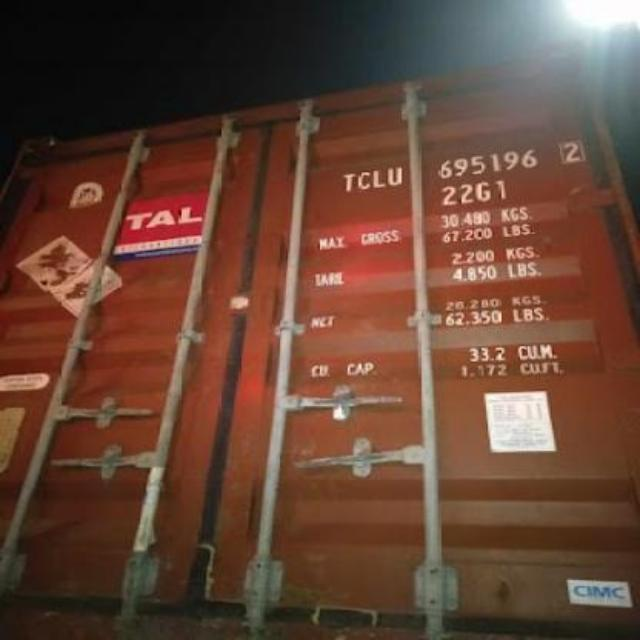1: (486, 146, 502, 172)
2: (554, 134, 584, 164)
5: (471, 148, 484, 176)
6: (432, 149, 452, 181), (522, 144, 536, 172)
9: (502, 147, 520, 173), (452, 150, 466, 177)
C: (354, 168, 370, 196)
L: (368, 164, 388, 192)
T: (336, 168, 356, 196)
U: (384, 161, 404, 191)
